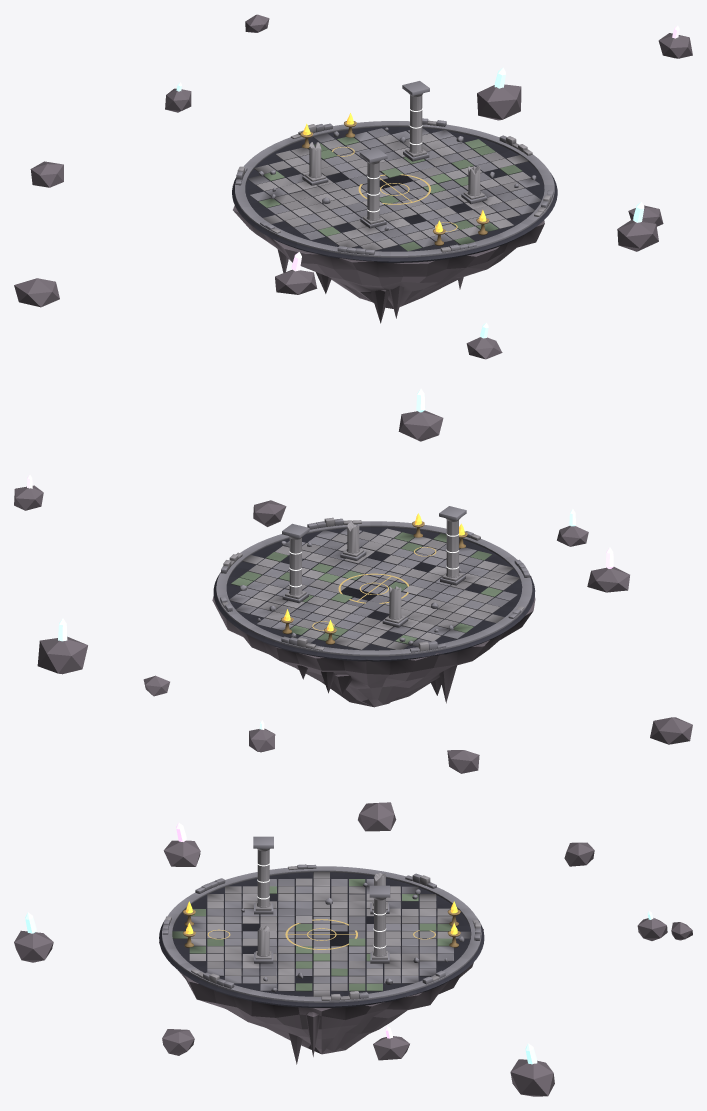
Rendered from duel.glb.
The picture shows the model from 3 angles, top to bottom: view 1: azimuth 30°, elevation 25°; view 2: azimuth 150°, elevation 25°; view 3: azimuth 270°, elevation 25°; orthographic projection.
Visible parts, largest first — view 1: duel_tiles, duel_floor, duel_underside, duel_wall, duel_rock_1, duel_pillar_0, duel_pillar_2, duel_rock_8, duel_rock_6, duel_rock_5, duel_rock_0, duel_rock_4 (+4 smaller); view 2: duel_tiles, duel_floor, duel_underside, duel_rock_1, duel_wall, duel_rock_8, duel_pillar_0, duel_pillar_2, duel_rock_6, duel_rock_5, duel_rock_0, duel_rock_9 (+3 smaller); view 3: duel_tiles, duel_floor, duel_underside, duel_wall, duel_rock_1, duel_pillar_2, duel_pillar_0, duel_rock_8, duel_rock_6, duel_rock_5, duel_rock_0, duel_rock_9 (+4 smaller).
Boxes of the visible parts, x1=… form: duel_tiles: x1=247, y1=128, x2=541, y2=251; duel_floor: x1=232, y1=121, x2=557, y2=262; duel_underside: x1=233, y1=183, x2=544, y2=323; duel_wall: x1=235, y1=118, x2=553, y2=254; duel_rock_1: x1=477, y1=67, x2=521, y2=120; duel_pillar_0: x1=402, y1=81, x2=429, y2=161; duel_pillar_2: x1=359, y1=148, x2=387, y2=228; duel_rock_8: x1=617, y1=201, x2=658, y2=251; duel_rock_6: x1=275, y1=252, x2=317, y2=294; duel_rock_5: x1=14, y1=278, x2=59, y2=307; duel_rock_0: x1=658, y1=25, x2=692, y2=58; duel_rock_4: x1=30, y1=161, x2=63, y2=187; duel_tiles: x1=229, y1=528, x2=519, y2=649; duel_floor: x1=213, y1=521, x2=535, y2=661; duel_underside: x1=212, y1=576, x2=535, y2=707; duel_rock_1: x1=37, y1=618, x2=87, y2=674; duel_wall: x1=220, y1=517, x2=529, y2=652; duel_rock_8: x1=398, y1=388, x2=443, y2=441; duel_pillar_0: x1=282, y1=523, x2=309, y2=603; duel_pillar_2: x1=439, y1=506, x2=466, y2=585; duel_rock_6: x1=587, y1=547, x2=629, y2=592; duel_rock_5: x1=650, y1=717, x2=692, y2=744; duel_rock_0: x1=14, y1=474, x2=43, y2=510; duel_rock_9: x1=253, y1=500, x2=286, y2=526; duel_tiles: x1=172, y1=871, x2=471, y2=996; duel_floor: x1=159, y1=866, x2=484, y2=1007; duel_underside: x1=159, y1=929, x2=483, y2=1064; duel_wall: x1=162, y1=864, x2=480, y2=1000; duel_rock_1: x1=510, y1=1043, x2=554, y2=1096; duel_pillar_2: x1=253, y1=836, x2=273, y2=914; duel_pillar_0: x1=369, y1=885, x2=390, y2=963; duel_rock_8: x1=14, y1=912, x2=53, y2=962; duel_rock_6: x1=163, y1=822, x2=200, y2=866; duel_rock_5: x1=358, y1=802, x2=396, y2=831; duel_rock_0: x1=373, y1=1026, x2=409, y2=1060; duel_rock_9: x1=162, y1=1029, x2=194, y2=1055.
Bounding box in the file's own units: 68.42 × 18.46 × 59.47.
